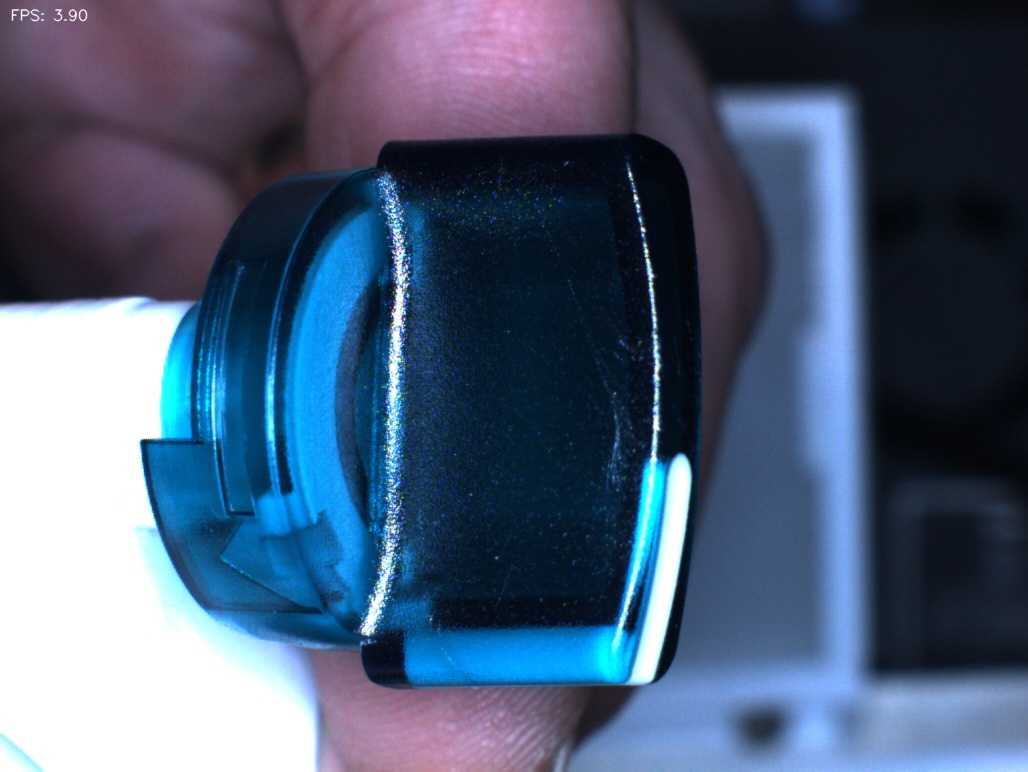Givrage: (534, 289, 675, 483)
